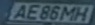6: (48, 5, 61, 21)
8: (39, 4, 51, 21)
A: (11, 4, 26, 19)
E: (25, 4, 41, 21)
H: (73, 6, 90, 22)
M: (58, 5, 77, 21)
